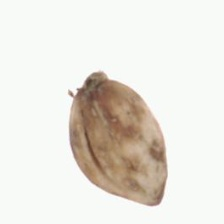L1: (69, 71, 113, 95), (139, 195, 164, 208)
L2: (69, 72, 168, 207)
